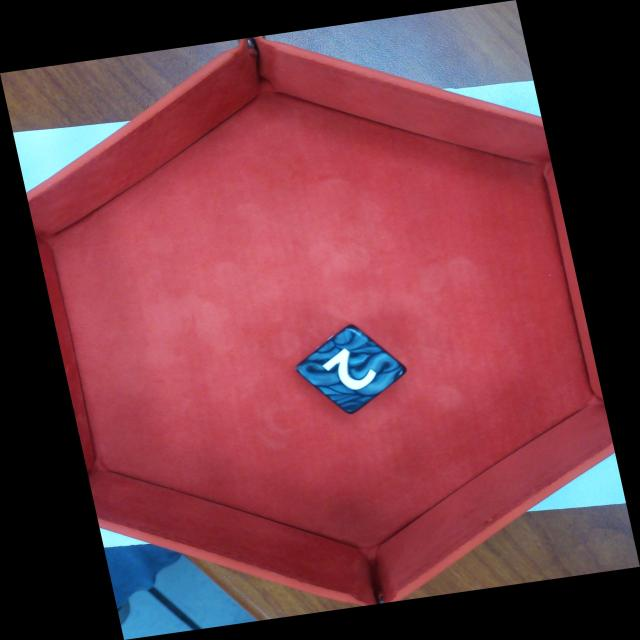dice: (292, 323, 410, 417)
